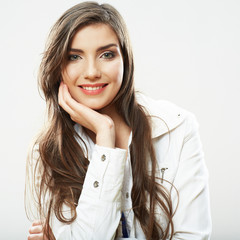teen: (47, 6, 134, 119)
